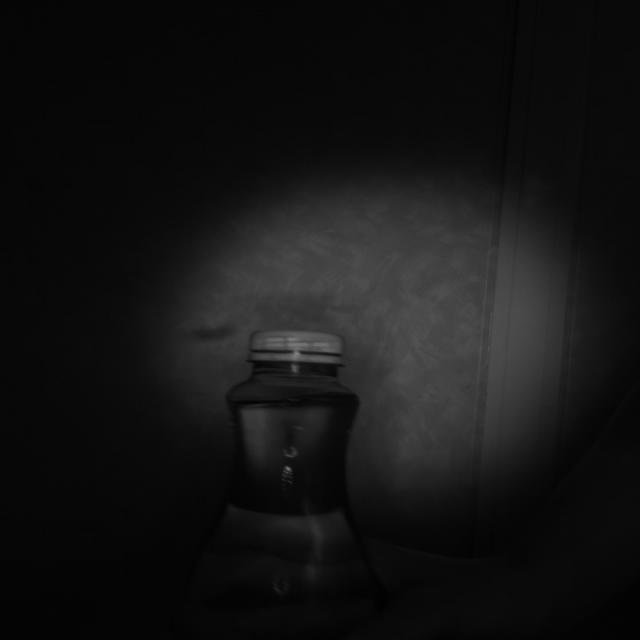Not Good: (246, 329, 344, 363)
